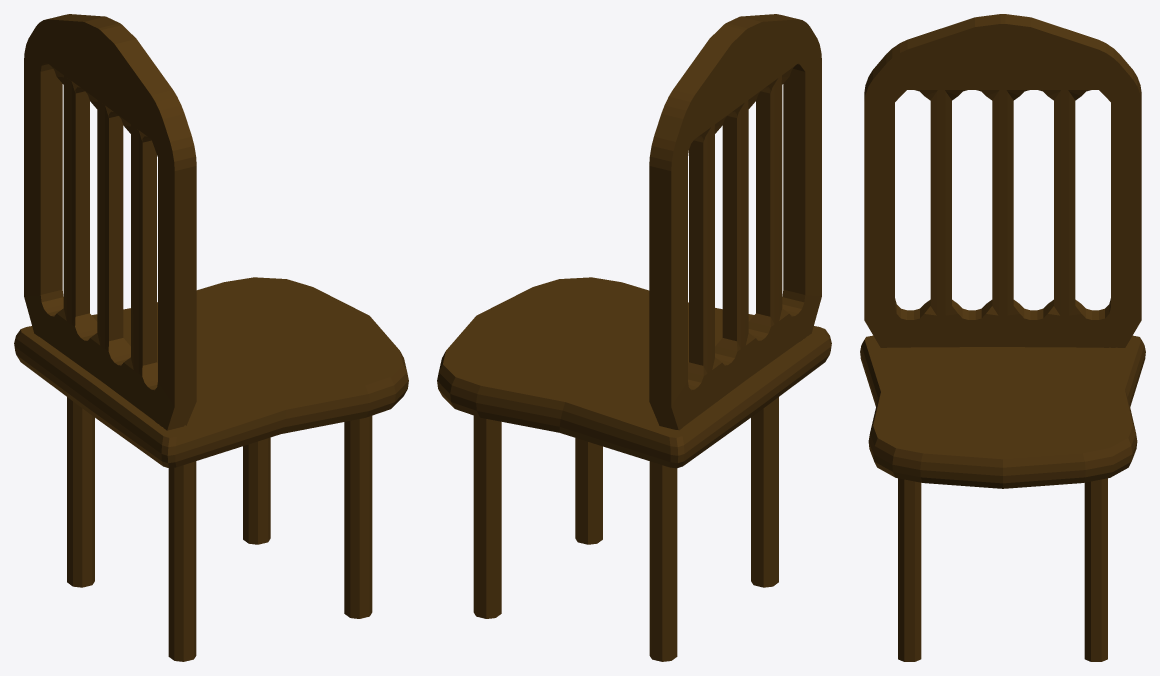
The model's file is chair.fbx.
3 renders of one model, left to right at view 1: azimuth 30°, elevation 25°; view 2: azimuth 150°, elevation 25°; view 3: azimuth 270°, elevation 25°, orthographic. The views are drawn at different scales.
Visible parts, largest first — view 1: Chair; view 2: Chair; view 3: Chair.
Boxes of the visible parts, left/top/right/bottom form: Chair: left=14, top=14, right=408, bottom=661; Chair: left=437, top=14, right=831, bottom=661; Chair: left=860, top=14, right=1145, bottom=661.
Size of what is drawn, in the model's own units: 0.652 by 1.3 by 0.6124.
